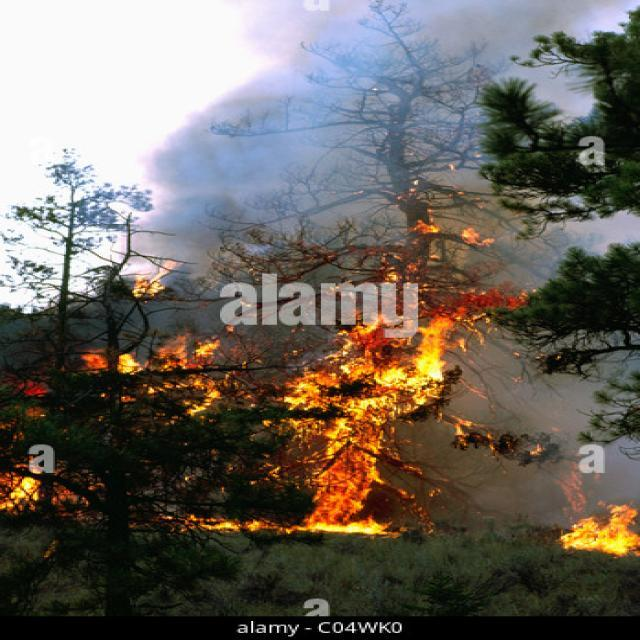Fire: (208, 242, 541, 544), (64, 314, 242, 414), (555, 493, 640, 561), (100, 252, 194, 310), (0, 461, 81, 522)
Smoke: (107, 0, 569, 294)
